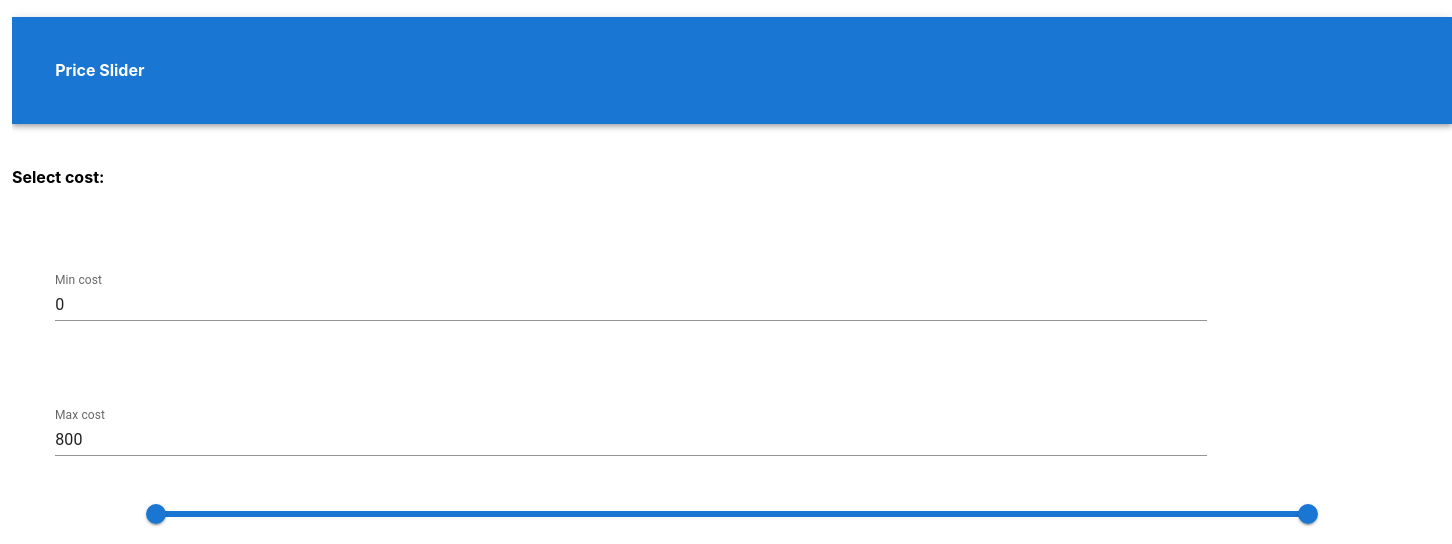
Scenario: Price Range Slider component › Numbers input work correctly
Replace the text in the number field labelled "Min cost" with "80" at (631, 305), box [55, 289, 1207, 321]
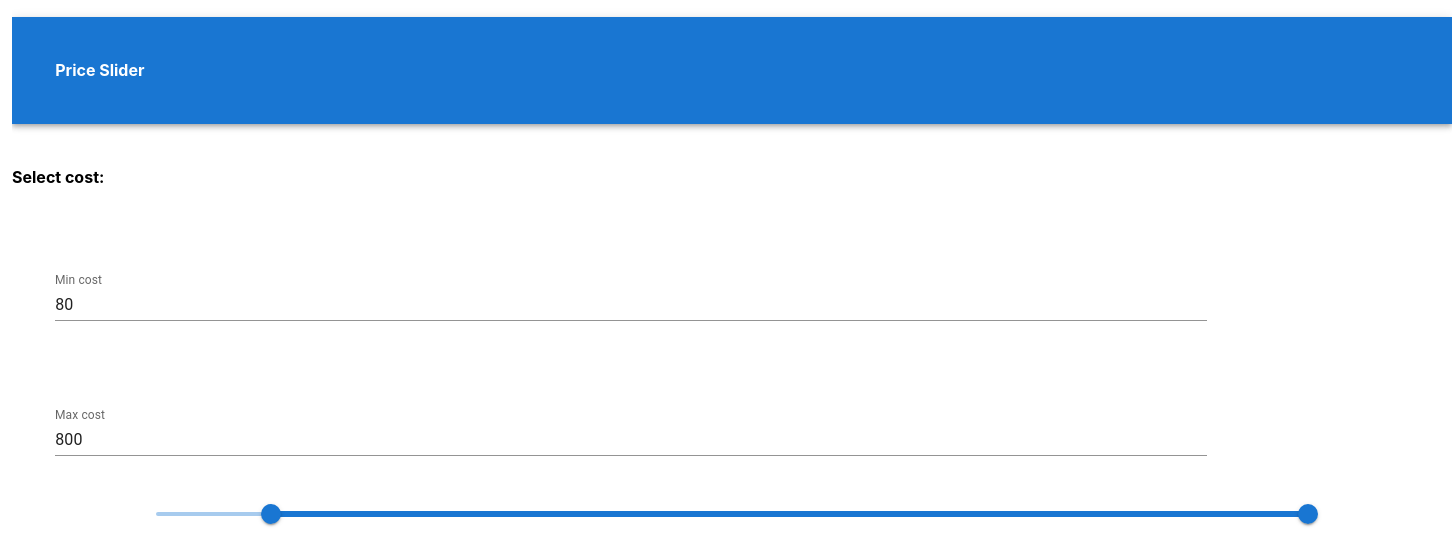
Expected: the 1st slider named "Cost range" holds "10"
Set the 1st slider named "Cost range" to "25" at (271, 514), box [261, 504, 281, 524]
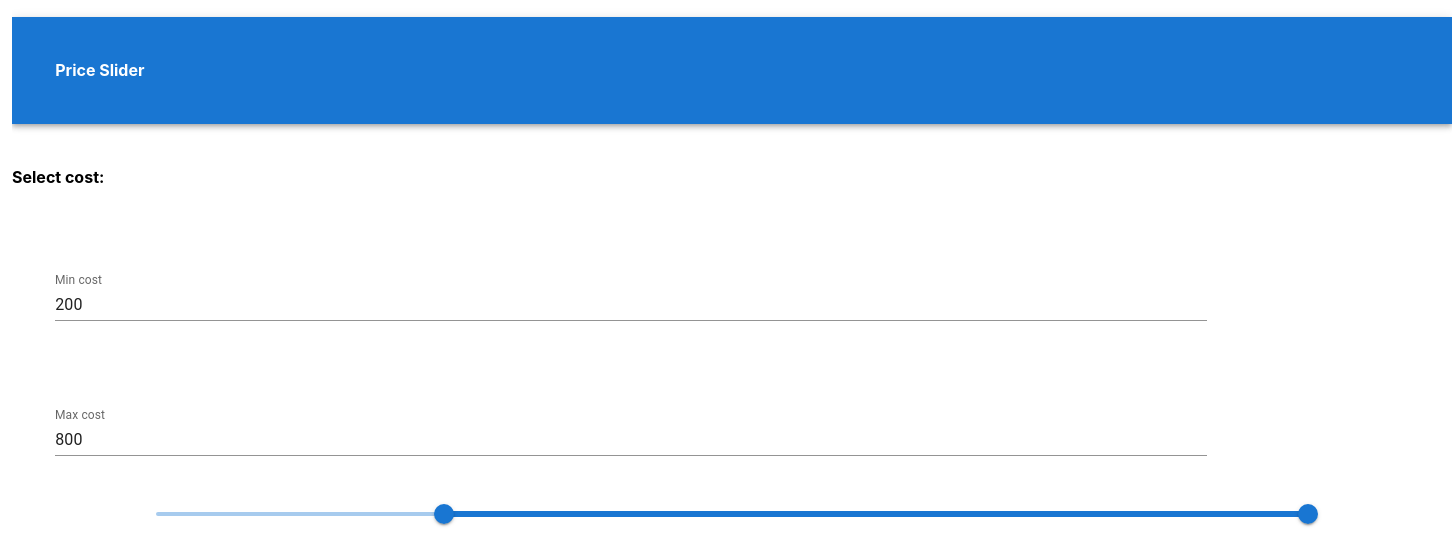
Expected: the number field labelled "Min cost" holds "200", [55, 289, 1207, 321]
Replace the text in the number field labelled "Max cost" with "720" at (631, 440), box [55, 424, 1207, 456]
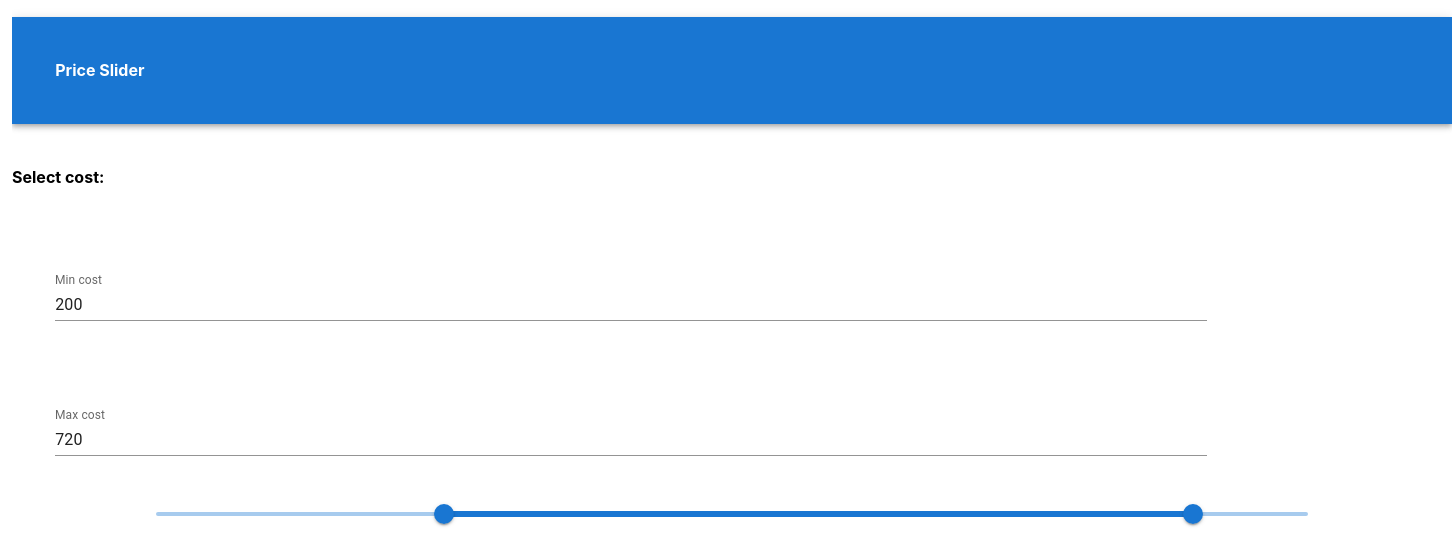
Expected: the 2nd slider named "Cost range" holds "90"
Set the 2nd slider named "Cost range" to "75" at (1193, 514), box [1183, 504, 1203, 524]
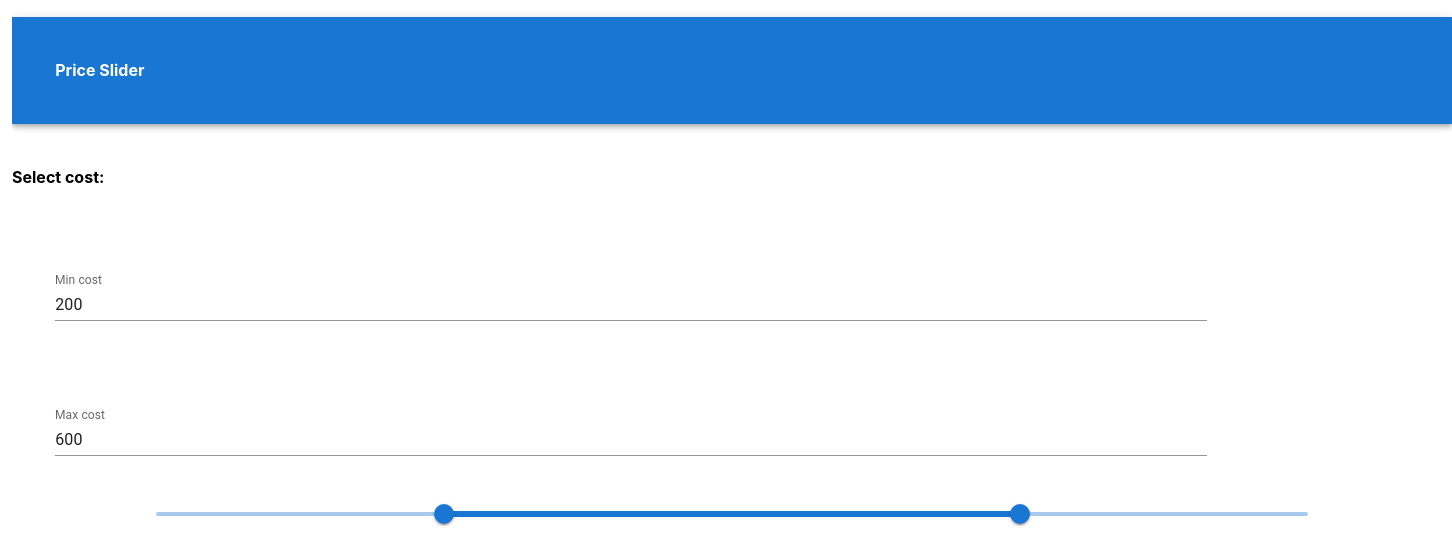
Expected: the number field labelled "Max cost" holds "600", [55, 424, 1207, 456]
Set the 1st slider named "Cost range" to "80" at (444, 514), box [434, 504, 454, 524]
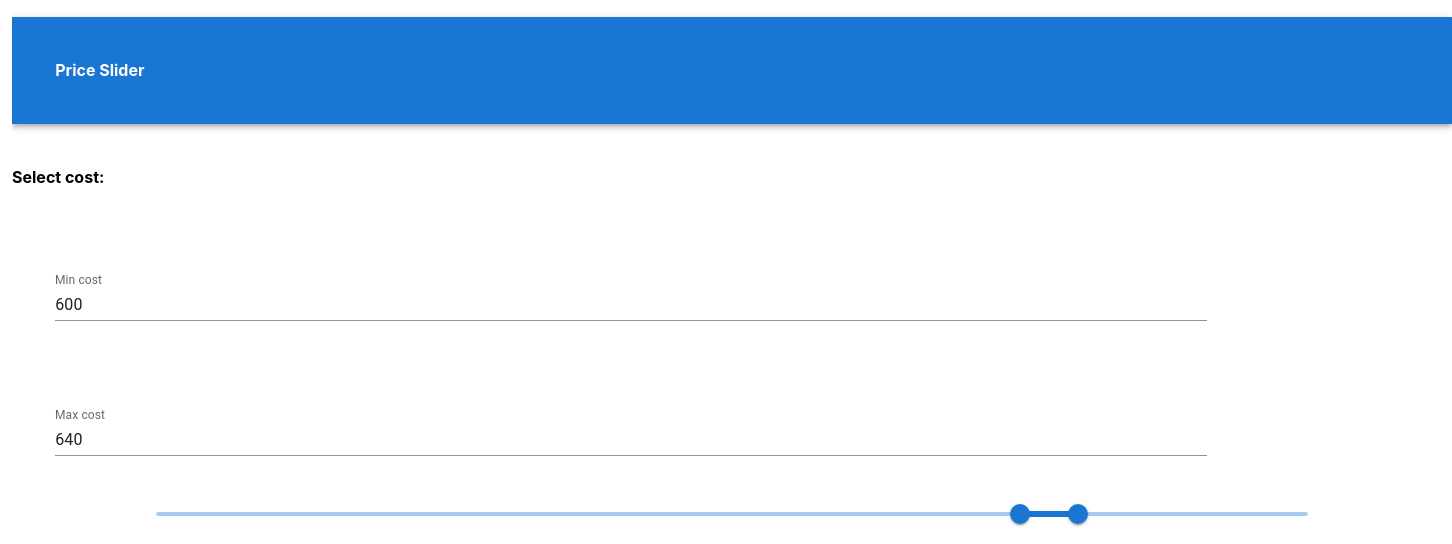
Expected: the number field labelled "Max cost" holds "640", [55, 424, 1207, 456]
Expected: the 1st slider named "Cost range" holds "75", [1010, 504, 1030, 524]
Set the 2nd slider named "Cost range" to "50" at (1078, 514), box [1068, 504, 1088, 524]
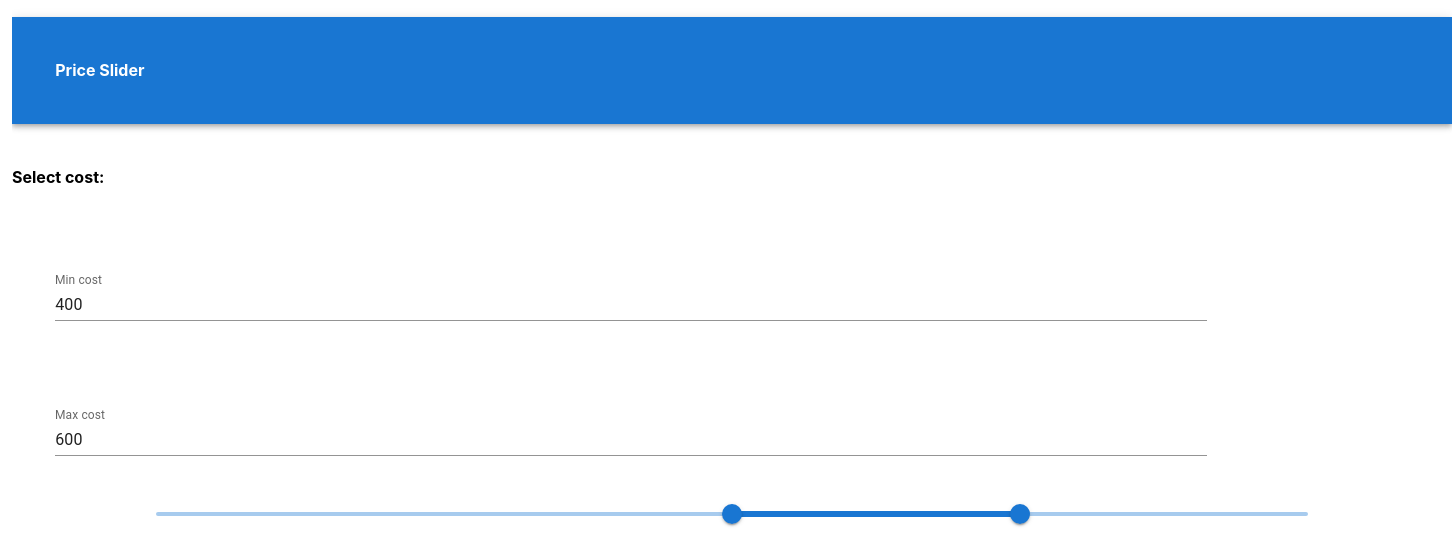
Expected: the number field labelled "Min cost" holds "400", [55, 289, 1207, 321]
Expected: the number field labelled "Max cost" holds "600", [55, 424, 1207, 456]
